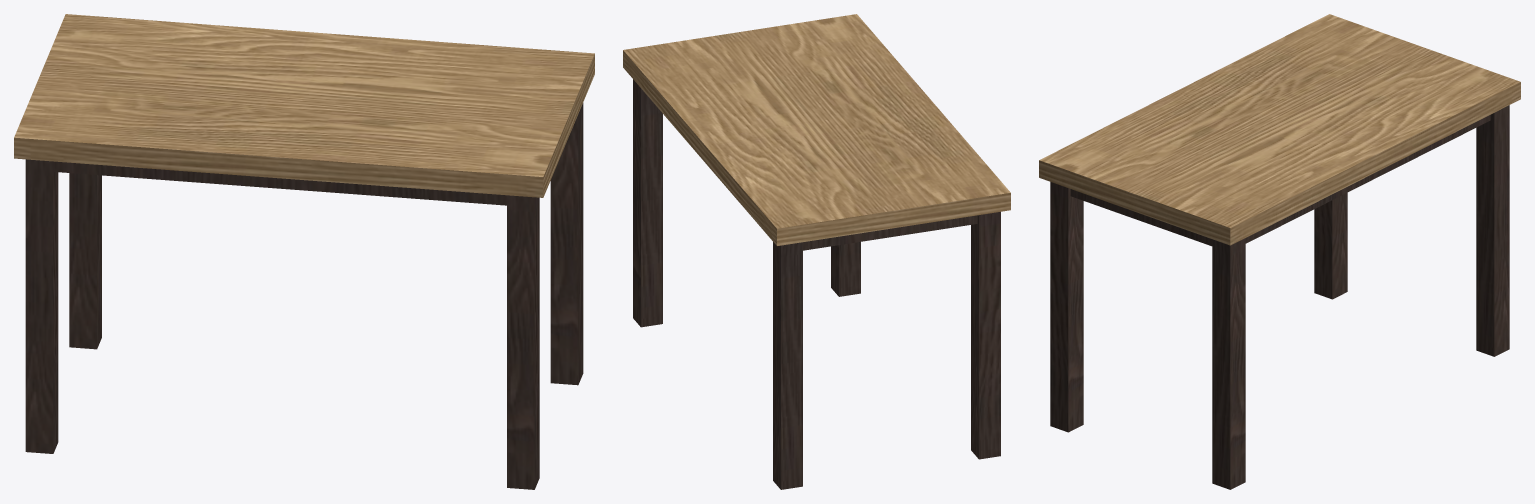
3 views of the same model, side by side, from view 1: azimuth 30°, elevation 25°; view 2: azimuth 150°, elevation 25°; view 3: azimuth 270°, elevation 25° (orthographic). The views are drawn at different scales.
Visible parts, largest first — view 1: Table_36001_Wood_04002_0, Table_36001_Wood_06002_0; view 2: Table_36001_Wood_04002_0, Table_36001_Wood_06002_0; view 3: Table_36001_Wood_04002_0, Table_36001_Wood_06002_0.
Part boxes in pixels (x1,y1,x2,y2): Table_36001_Wood_04002_0: (14, 14, 594, 197); Table_36001_Wood_06002_0: (25, 103, 583, 489); Table_36001_Wood_04002_0: (623, 14, 1010, 245); Table_36001_Wood_06002_0: (633, 79, 1000, 489); Table_36001_Wood_04002_0: (1039, 14, 1520, 245); Table_36001_Wood_06002_0: (1050, 105, 1509, 489).
Bounding box in the file's own units: 1.21 × 0.7008 × 1.15.
Materials: 2 (2 with a texture image).
